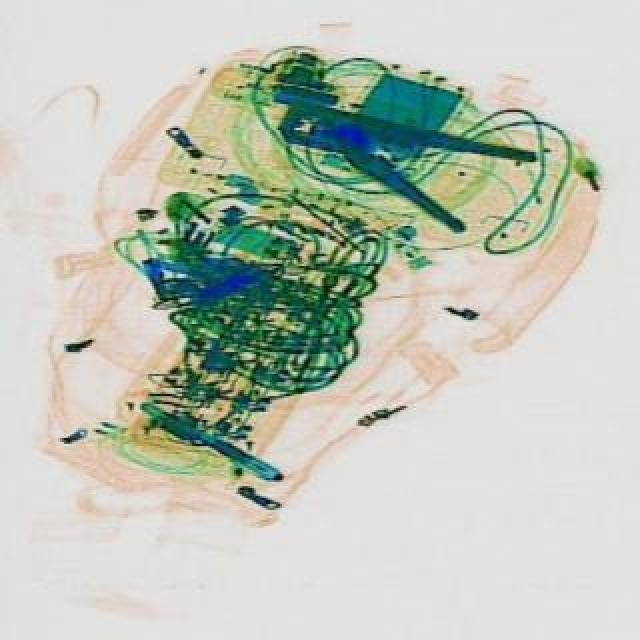wrench: (258, 74, 536, 254)
